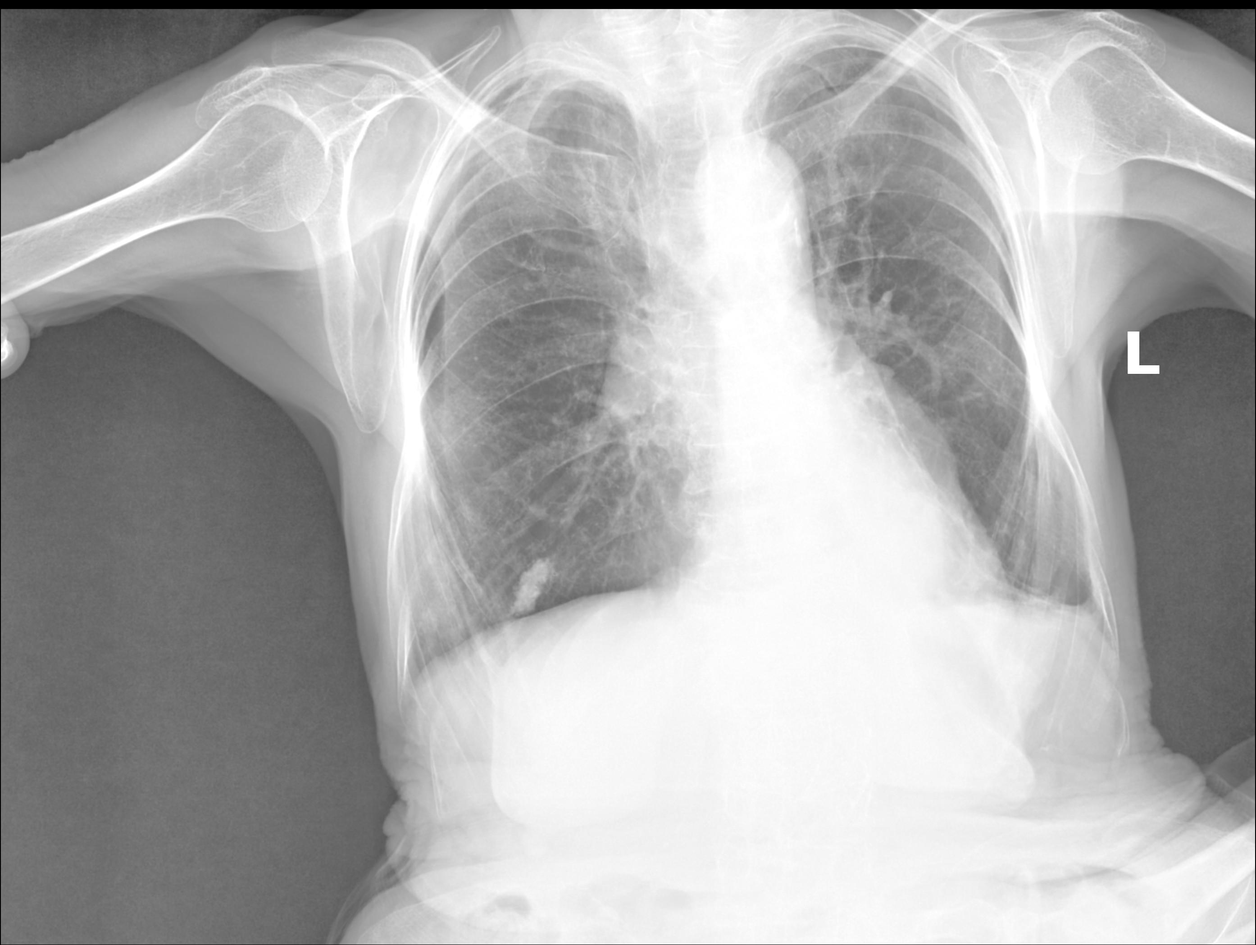Aortic enlargement: (696, 130, 807, 256)
Pleural thickening: (1062, 568, 1112, 636)
